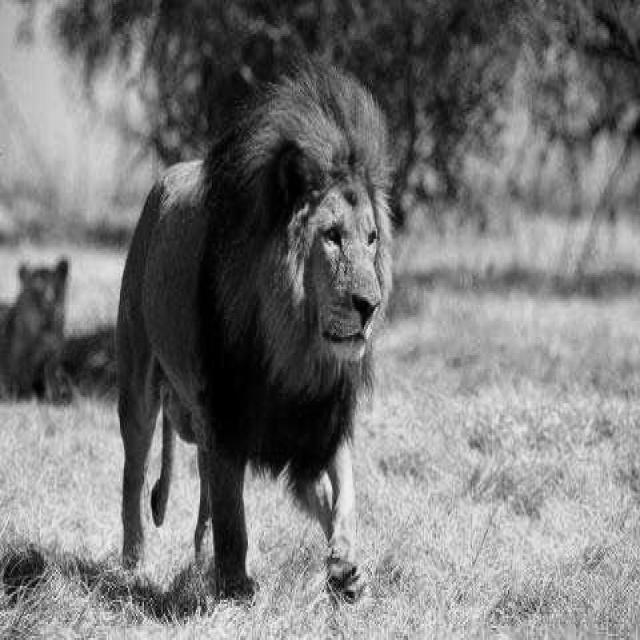Lion: (116, 70, 443, 563)
